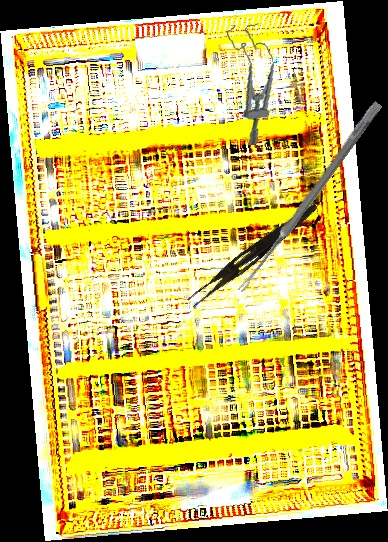Dressing Forceps: (186, 196, 320, 313)
Speculum: (225, 20, 284, 147)
Surgical Spoon: (236, 100, 383, 295)
